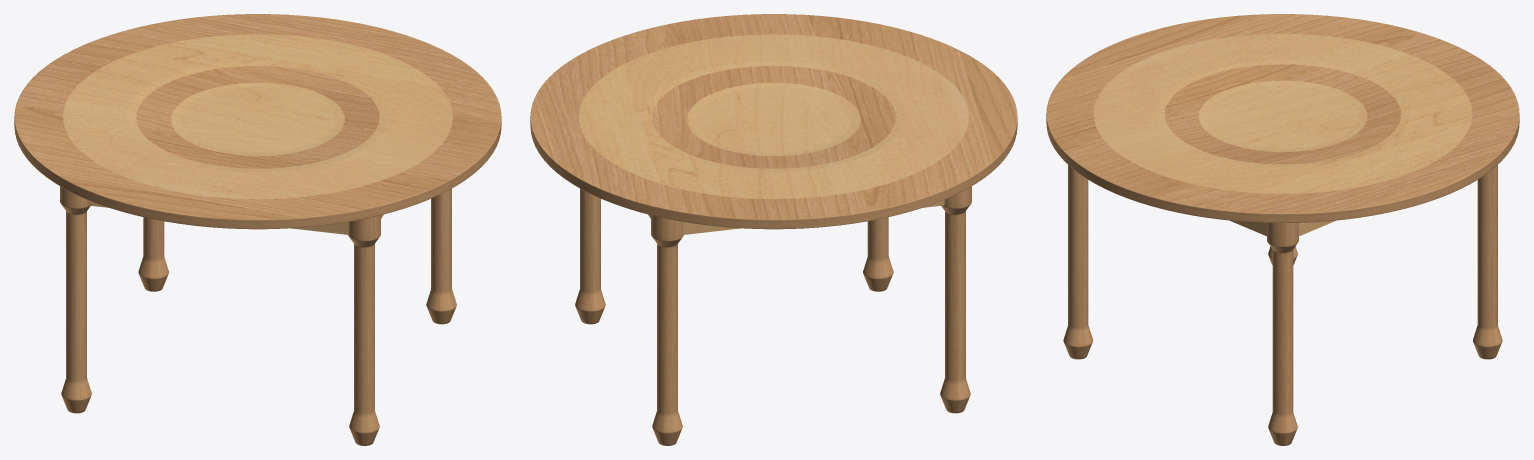
The model's file is tableRound.obj.
3 renders of one model, left to right at view 1: azimuth 30°, elevation 25°; view 2: azimuth 150°, elevation 25°; view 3: azimuth 270°, elevation 25°, orthographic. The views are drawn at different scales.
Parts seen in each view (by area): view 1: Table_Circle.004, Leg_Cylinder.001, Support_Cube; view 2: Table_Circle.004, Leg_Cylinder.001, Support_Cube; view 3: Table_Circle.004, Leg_Cylinder.001, Support_Cube.
Part boxes in pixels (x1,y1,x2,y2): Table_Circle.004: (14, 14, 501, 229); Leg_Cylinder.001: (60, 186, 456, 445); Support_Cube: (87, 200, 383, 234); Table_Circle.004: (530, 14, 1017, 229); Leg_Cylinder.001: (575, 186, 971, 445); Support_Cube: (648, 200, 944, 234); Table_Circle.004: (1046, 14, 1519, 222); Leg_Cylinder.001: (1063, 165, 1502, 445); Support_Cube: (1230, 220, 1335, 236).
Bounding box in the file's own units: 2.59 × 1.46 × 2.59.
